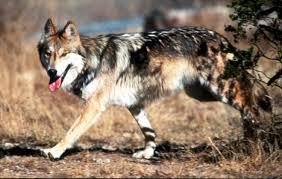wolf: (29, 15, 262, 161)
